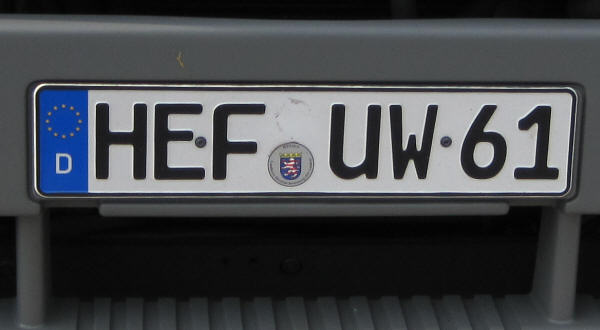license_plate: (33, 83, 574, 198)
